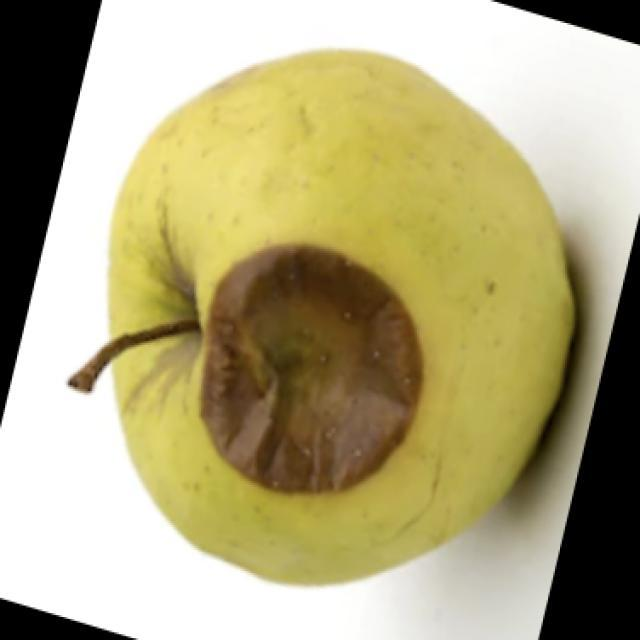Rotten: (107, 60, 595, 572)
